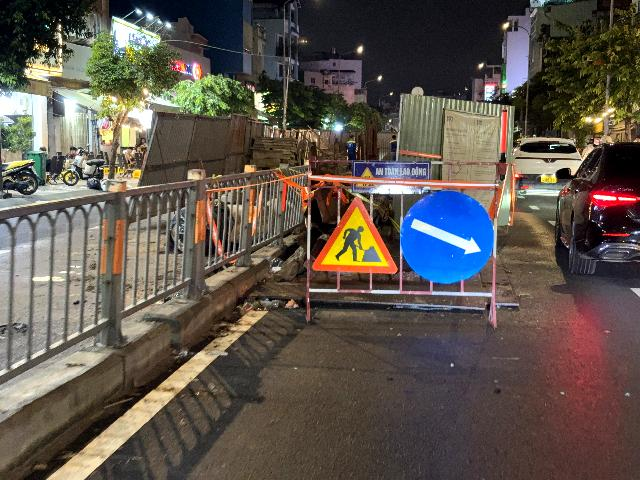cong-truong-dang-thi-cong: (312, 196, 398, 273)
huong-phai-di-vong-chuong-ngai-vat: (400, 191, 494, 284)
